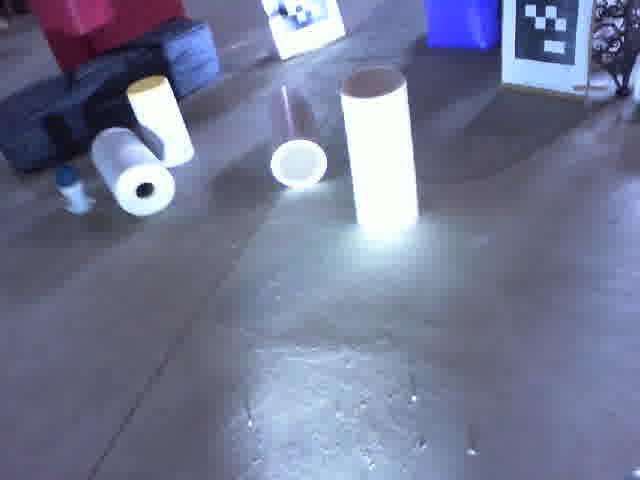coral: (331, 59, 426, 244), (254, 75, 335, 196), (122, 73, 195, 170)
